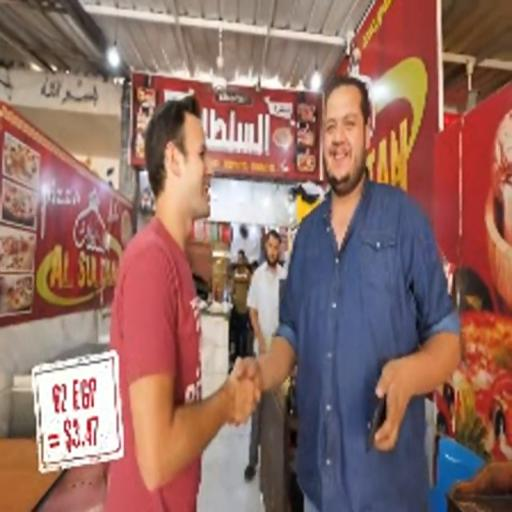nao-violencia: (98, 64, 467, 512)
